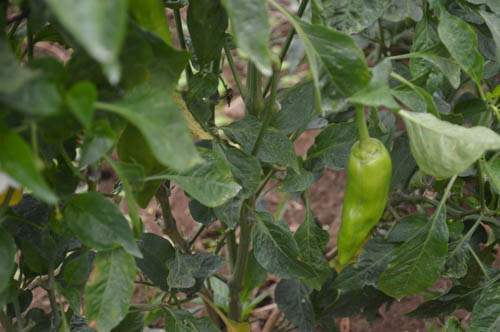ChiliPepper: (338, 144, 389, 266)
